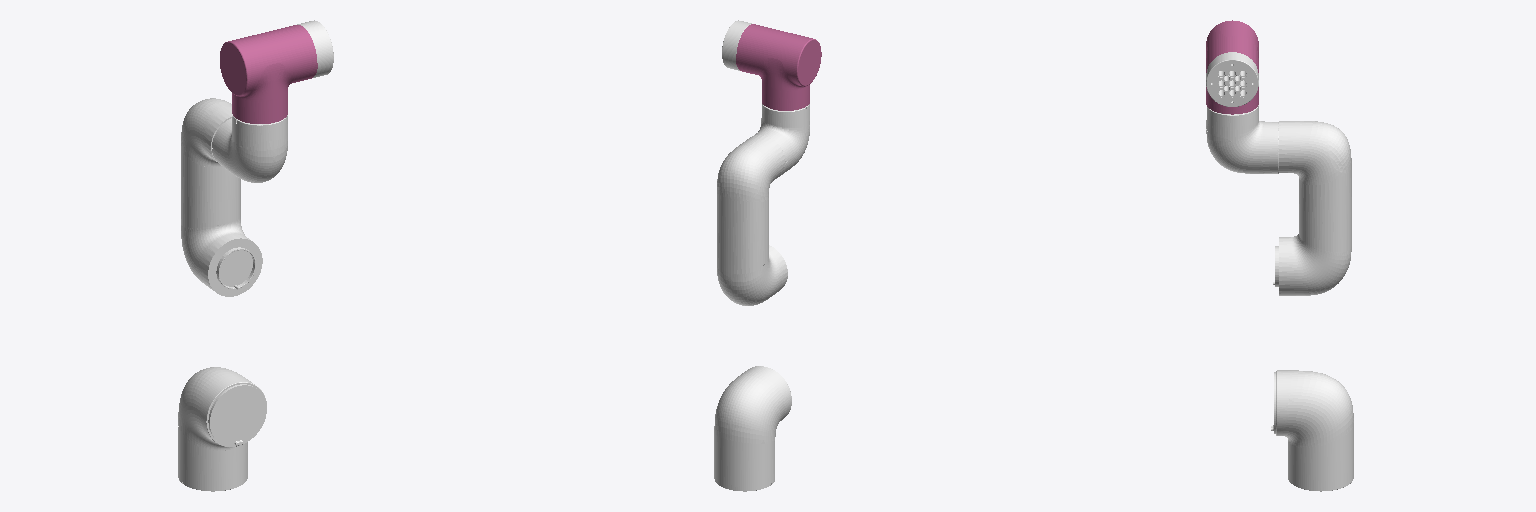
robot.urdf — mycobot_280_jn:
<?xml version="1.0"?>
<robot name="mycobot_280_jn">
  <link name="world"/>
  <joint name="world_to_joint1" type="fixed"><parent link="world"/><child link="joint1"/><origin xyz="0 0 0" rpy="0 0 0"/></joint>

  <link name="joint1">
    <visual>
      <geometry><mesh filename="package://positronic_description/urdf/mycobot_280_jn_sim/meshes/visual/joint1.dae"/></geometry>
    </visual>
    <collision>
      <geometry><mesh filename="package://positronic_description/urdf/mycobot_280_jn_sim/meshes/collision/joint1.stl"/></geometry>
    </collision>
    <inertial>
      <origin xyz="-0.000007 -0.000080 0.049738" rpy="0 0 0"/>
      <mass value="0.50875"/>
      <inertia ixx="1.2317e-03" ixy="6.9182e-09" ixz="-6.2406e-08" iyy="9.2410e-04" iyz="1.1339e-06" izz="1.1863e-03"/>
    </inertial>
  </link>
  <link name="joint2">
    <visual>
      <geometry><mesh filename="package://positronic_description/urdf/mycobot_280_jn_sim/meshes/visual/joint2.dae"/></geometry>
    </visual>
    <collision>
      <geometry><mesh filename="package://positronic_description/urdf/mycobot_280_jn_sim/meshes/collision/joint2.stl"/></geometry>
    </collision>
    <inertial>
      <origin xyz="-0.000000 -0.006642 -0.021543" rpy="0 0 0"/>
      <mass value="0.06376"/>
      <inertia ixx="4.6518e-05" ixy="-1.4217e-10" ixz="4.0220e-11" iyy="4.1988e-05" iyz="5.2079e-06" izz="2.3962e-05"/>
    </inertial>
  </link>
  <link name="joint3">
    <visual>
      <geometry><mesh filename="package://positronic_description/urdf/mycobot_280_jn_sim/meshes/visual/joint3.dae"/></geometry>
    </visual>
    <collision>
      <geometry><mesh filename="package://positronic_description/urdf/mycobot_280_jn_sim/meshes/collision/joint3.stl"/></geometry>
    </collision>
    <inertial>
      <origin xyz="-0.054329 -0.000001 0.055329" rpy="0 0 0"/>
      <mass value="0.11283"/>
      <inertia ixx="4.0982e-05" ixy="-4.4556e-09" ixz="-7.0957e-07" iyy="2.1152e-04" iyz="-8.7142e-10" izz="2.0504e-04"/>
    </inertial>
  </link>
  <link name="joint4">
    <visual>
      <geometry><mesh filename="package://positronic_description/urdf/mycobot_280_jn_sim/meshes/visual/joint4.dae"/></geometry>
    </visual>
    <collision>
      <geometry><mesh filename="package://positronic_description/urdf/mycobot_280_jn_sim/meshes/collision/joint4.stl"/></geometry>
    </collision>
    <inertial>
      <origin xyz="-0.045854 0.000000 0.007555" rpy="0 0 0"/>
      <mass value="0.08998"/>
      <inertia ixx="3.0322e-05" ixy="2.4186e-09" ixz="-2.9578e-06" iyy="1.3482e-04" iyz="1.3086e-09" izz="1.2647e-04"/>
    </inertial>
  </link>
  <link name="joint5">
    <visual>
      <geometry><mesh filename="package://positronic_description/urdf/mycobot_280_jn_sim/meshes/visual/joint5.dae"/></geometry>
    </visual>
    <collision>
      <geometry><mesh filename="package://positronic_description/urdf/mycobot_280_jn_sim/meshes/collision/joint5.stl"/></geometry>
    </collision>
    <inertial>
      <origin xyz="0.000001 -0.009519 -0.008481" rpy="0 0 0"/>
      <mass value="0.02887"/>
      <inertia ixx="1.1107e-05" ixy="2.2157e-10" ixz="1.0327e-10" iyy="8.0087e-06" iyz="1.5831e-06" izz="8.7282e-06"/>
    </inertial>
  </link>
  <link name="joint6">
    <visual>
      <geometry><mesh filename="package://positronic_description/urdf/mycobot_280_jn_sim/meshes/visual/joint6.dae"/></geometry>
    </visual>
    <collision>
      <geometry><mesh filename="package://positronic_description/urdf/mycobot_280_jn_sim/meshes/collision/joint6.stl"/></geometry>
    </collision>
    <inertial>
      <origin xyz="-0.000000 0.005619 -0.009142" rpy="0 0 0"/>
      <mass value="0.03611"/>
      <inertia ixx="1.6575e-05" ixy="1.3007e-11" ixz="9.1115e-11" iyy="1.1852e-05" iyz="-8.2298e-07" izz="1.2374e-05"/>
    </inertial>
  </link>
  <link name="joint6_flange">
    <visual>
      <geometry><mesh filename="package://positronic_description/urdf/mycobot_280_jn_sim/meshes/visual/joint6_flange.dae"/></geometry>
    </visual>
    <collision>
      <geometry><mesh filename="package://positronic_description/urdf/mycobot_280_jn_sim/meshes/collision/joint6_flange.stl"/></geometry>
    </collision>
    <inertial>
      <origin xyz="-0.000000 -0.000000 -0.005150" rpy="0 0 0"/>
      <mass value="0.00556"/>
      <inertia ixx="5.9851e-07" ixy="-5.1008e-24" ixz="1.4442e-24" iyy="5.9851e-07" iyz="-7.4388e-16" izz="1.0234e-06"/>
    </inertial>
  </link>
  <joint name="joint2_to_joint1" type="revolute">
    <parent link="joint1"/><child link="joint2"/>
    <origin xyz="0 0 0.15756" rpy="0 0 0"/>
    <axis xyz="0 0 1"/>
    <limit effort="10.0" lower="-2.9321" upper="2.9321" velocity="2.618"/>
    <dynamics damping="0.1" friction="0.01"/>
  </joint>
  <joint name="joint3_to_joint2" type="revolute">
    <parent link="joint2"/><child link="joint3"/>
    <origin xyz="0 0 -0.001" rpy="0 1.5708 -1.5708"/>
    <axis xyz="0 0 1"/>
    <limit effort="10.0" lower="-2.4434" upper="2.4434" velocity="2.618"/>
    <dynamics damping="0.1" friction="0.01"/>
  </joint>
  <joint name="joint4_to_joint3" type="revolute">
    <parent link="joint3"/><child link="joint4"/>
    <origin xyz="-0.1104 0 0" rpy="0 0 0"/>
    <axis xyz="0 0 1"/>
    <limit effort="10.0" lower="-2.6179" upper="2.6179" velocity="2.618"/>
    <dynamics damping="0.1" friction="0.01"/>
  </joint>
  <joint name="joint5_to_joint4" type="revolute">
    <parent link="joint4"/><child link="joint5"/>
    <origin xyz="-0.096 0 0.06462" rpy="0 0 -1.5708"/>
    <axis xyz="0 0 1"/>
    <limit effort="10.0" lower="-2.6179" upper="2.6179" velocity="2.618"/>
    <dynamics damping="0.1" friction="0.01"/>
  </joint>
  <joint name="joint6_to_joint5" type="revolute">
    <parent link="joint5"/><child link="joint6"/>
    <origin xyz="0 -0.07318 0" rpy="1.5708 -1.5708 0"/>
    <axis xyz="0 0 1"/>
    <limit effort="10.0" lower="-2.7052" upper="2.7925" velocity="2.618"/>
    <dynamics damping="0.1" friction="0.01"/>
  </joint>
  <joint name="joint6output_to_joint6" type="revolute">
    <parent link="joint6"/><child link="joint6_flange"/>
    <origin xyz="0 0.0456 0" rpy="-1.5708 0.7854 0"/>
    <axis xyz="0 0 1"/>
    <limit effort="10.0" lower="-3.14159" upper="3.14159" velocity="2.618"/>
    <dynamics damping="0.1" friction="0.01"/>
  </joint>

  <gazebo reference="joint2"><turnGravityOff>true</turnGravityOff></gazebo>
  <gazebo reference="joint3"><turnGravityOff>true</turnGravityOff></gazebo>
  <gazebo reference="joint4"><turnGravityOff>true</turnGravityOff></gazebo>
  <gazebo reference="joint5"><turnGravityOff>true</turnGravityOff></gazebo>
  <gazebo reference="joint6"><turnGravityOff>true</turnGravityOff></gazebo>
  <gazebo reference="joint6_flange"><turnGravityOff>true</turnGravityOff></gazebo>
</robot>

--- What the picture shows (computed from the rendered views, not written in the file) ---
Views: 3 orthographic renders of the robot side by side, from view 1: azimuth 30°, elevation 25°; view 2: azimuth 150°, elevation 25°; view 3: azimuth 270°, elevation 25°.
Model mycobot_280_jn with 8 links and 7 joints (6 revolute, 1 fixed), rooted at world, posed all joints at 0.
Visible links, largest first — view 1: joint4, joint2, joint6, joint5, joint6_flange; view 2: joint4, joint2, joint6, joint5, joint6_flange; view 3: joint4, joint2, joint5, joint6_flange, joint6.
Boxes of the visible links, box(x1,y1,x2,y2) form: joint4: box(181, 98, 262, 296); joint2: box(178, 367, 266, 491); joint6: box(220, 25, 317, 123); joint5: box(212, 115, 287, 182); joint6_flange: box(297, 20, 333, 77); joint4: box(717, 135, 787, 305); joint2: box(714, 366, 791, 491); joint6: box(736, 24, 821, 110); joint5: box(755, 104, 809, 176); joint6_flange: box(722, 20, 751, 70); joint4: box(1273, 121, 1351, 295); joint2: box(1271, 370, 1353, 491); joint5: box(1206, 105, 1278, 173); joint6_flange: box(1206, 52, 1258, 106); joint6: box(1206, 20, 1258, 114).
Bounding box of the posed robot: 0.0713 × 0.1078 × 0.3619 m (x, y, z).
Meshes: 7 distinct files referenced, 5 mesh visuals loaded (5 Collada DAE); not drawn: 2 (reference not matched to a file when rendering).
